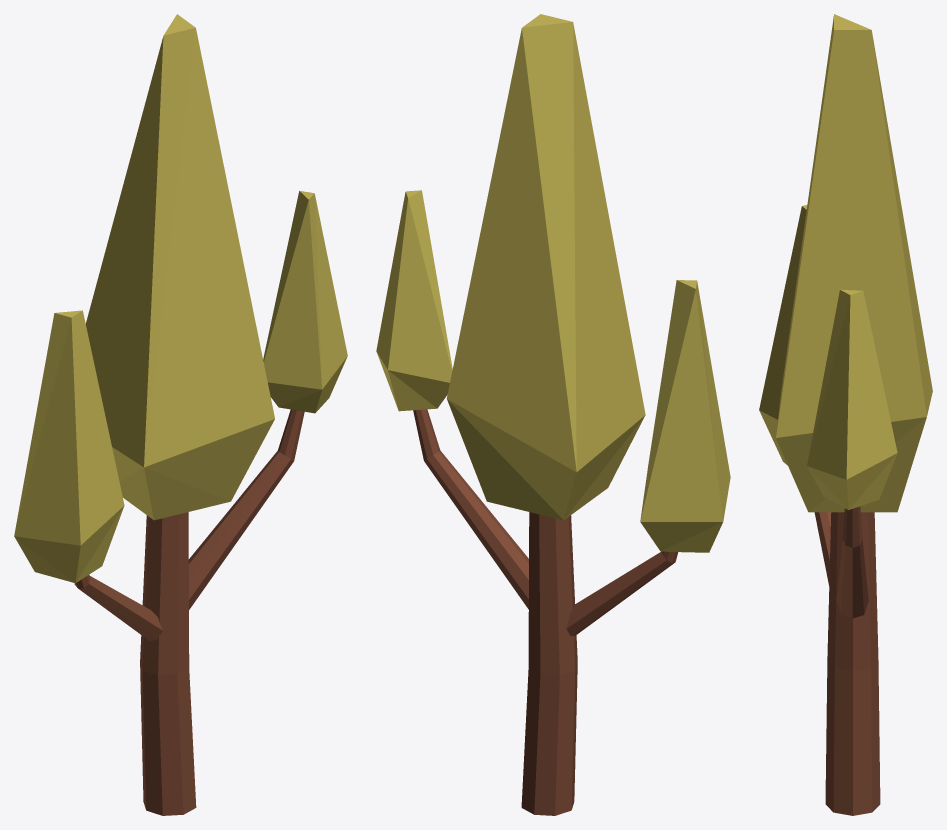
File: Tree_50_autumn_vc.fbx
3 renders of one model, left to right at view 1: azimuth 30°, elevation 25°; view 2: azimuth 150°, elevation 25°; view 3: azimuth 270°, elevation 25°, orthographic.
Visible parts, largest first — view 1: Tree_50_autumn_vc; view 2: Tree_50_autumn_vc; view 3: Tree_50_autumn_vc.
Part boxes in pixels (<box>): Tree_50_autumn_vc: <box>14,14,347,815</box>; Tree_50_autumn_vc: <box>376,14,730,815</box>; Tree_50_autumn_vc: <box>759,14,932,815</box>.
Size of the model in its own units: 118 by 259 by 52.22.
